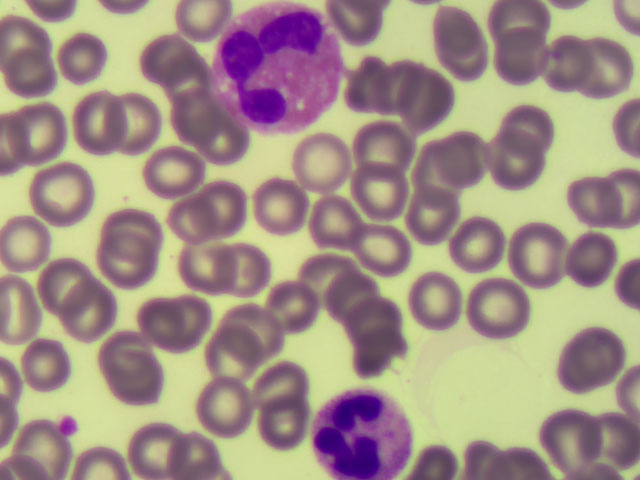Platelets: (57, 414, 82, 437)
RBC: (74, 427, 126, 480), (121, 427, 173, 480), (171, 427, 223, 480), (59, 32, 111, 84), (10, 50, 62, 102), (68, 90, 120, 142), (107, 93, 159, 145), (135, 31, 187, 83), (149, 48, 201, 100), (168, 91, 220, 143), (201, 110, 253, 162), (151, 142, 203, 194), (42, 166, 94, 218), (20, 104, 72, 156), (1, 214, 53, 266), (38, 250, 90, 302), (61, 289, 113, 341), (98, 242, 150, 294), (107, 204, 159, 256), (159, 199, 211, 251), (195, 178, 247, 230), (180, 242, 232, 294), (214, 241, 266, 293), (161, 289, 213, 341), (141, 293, 193, 345), (100, 320, 152, 372), (108, 353, 160, 405), (26, 341, 78, 393), (10, 422, 62, 474), (196, 382, 248, 434), (210, 335, 262, 387), (228, 308, 280, 360), (263, 280, 315, 332), (293, 250, 345, 302), (325, 267, 377, 319), (341, 293, 393, 345), (347, 312, 399, 364), (262, 357, 314, 409), (261, 394, 313, 446), (255, 185, 307, 237), (289, 142, 341, 194), (308, 198, 360, 250), (358, 224, 410, 276), (355, 167, 407, 219), (358, 123, 410, 175), (397, 77, 449, 129), (379, 60, 431, 112), (356, 60, 408, 112), (429, 1, 481, 53), (440, 34, 492, 86), (497, 31, 549, 83), (496, 9, 548, 61), (536, 29, 588, 81), (582, 44, 634, 96), (501, 100, 553, 152), (495, 137, 547, 189), (440, 129, 492, 181), (419, 146, 471, 198), (407, 191, 459, 243), (455, 216, 507, 268), (510, 224, 562, 276), (555, 225, 607, 277), (565, 171, 617, 223), (468, 283, 520, 335), (415, 274, 467, 326), (562, 324, 614, 376), (588, 413, 640, 465), (555, 410, 607, 462), (1, 18, 52, 70), (176, 1, 235, 38)
WBC: (212, 5, 345, 129), (302, 390, 413, 480)
